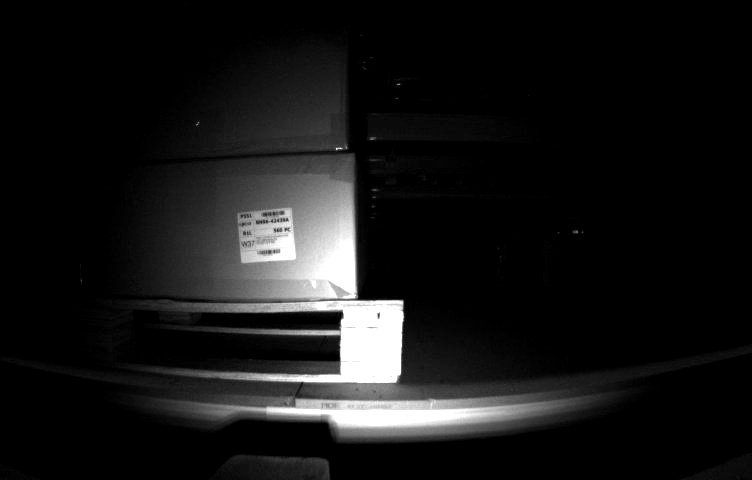True Barcode: (235, 210, 298, 264)
